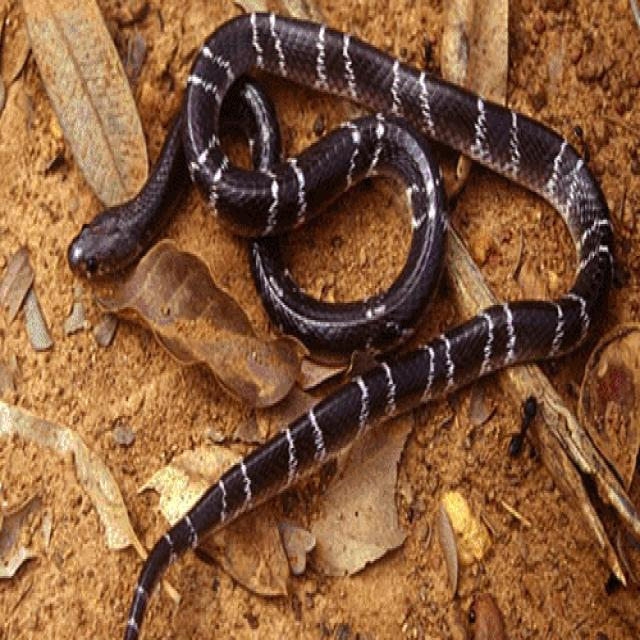Snake: (67, 9, 616, 636)
